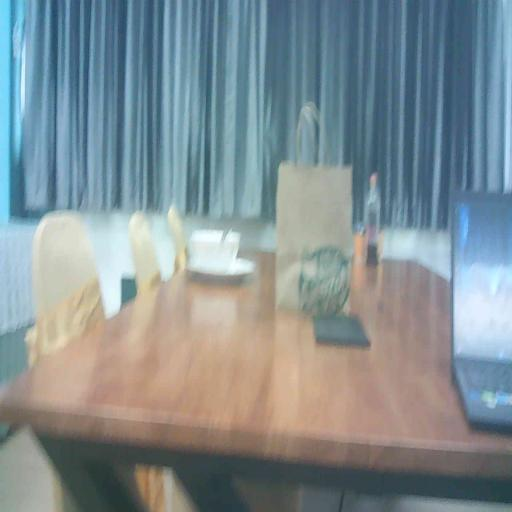bag: (276, 155, 350, 328)
